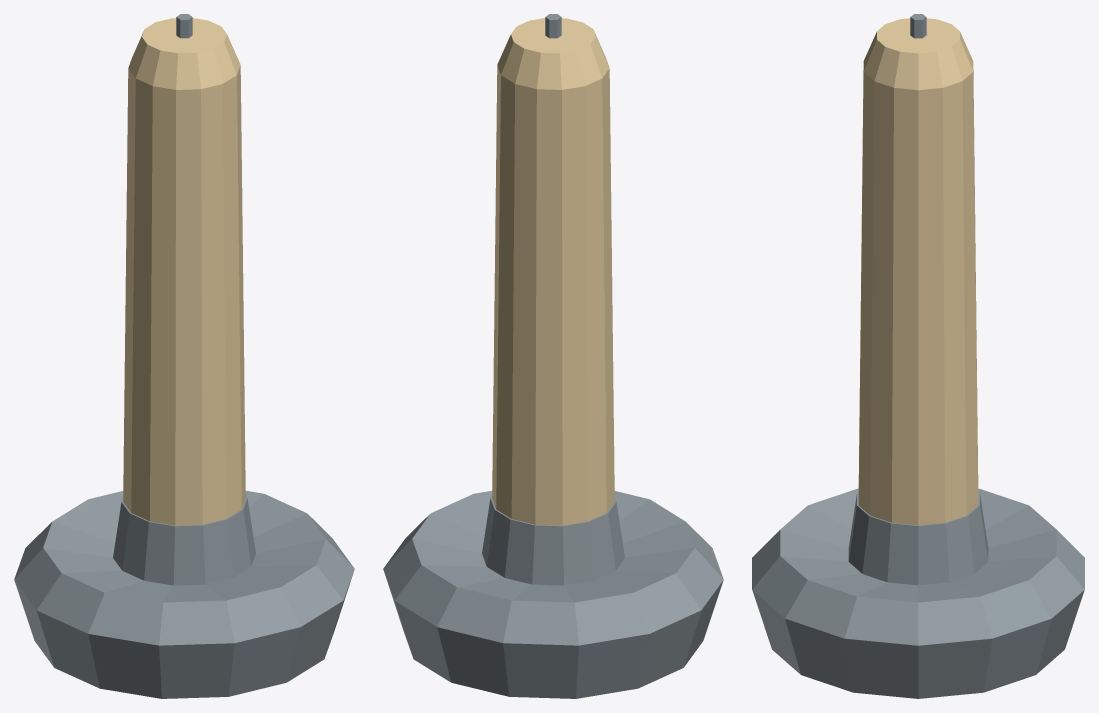
Rendered from candle.glb.
3 renders of one model, left to right at view 1: azimuth 30°, elevation 25°; view 2: azimuth 150°, elevation 25°; view 3: azimuth 270°, elevation 25°, orthographic.
Visible parts, largest first — view 1: wax, pewter; view 2: wax, pewter; view 3: wax, pewter.
Boxes of the visible parts, x1,y1,x2,y2 form: wax: (123, 18, 245, 525); pewter: (14, 490, 354, 698); wax: (492, 18, 614, 525); pewter: (383, 490, 723, 698); wax: (858, 18, 978, 525); pewter: (752, 488, 1084, 698).
Bounding box in the file's own units: 0.1 × 0.2 × 0.0975.
